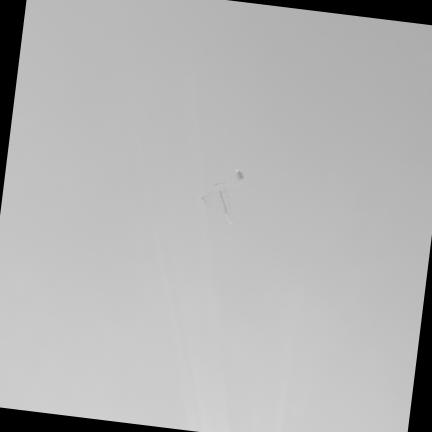Shahed: (195, 169, 243, 222)
